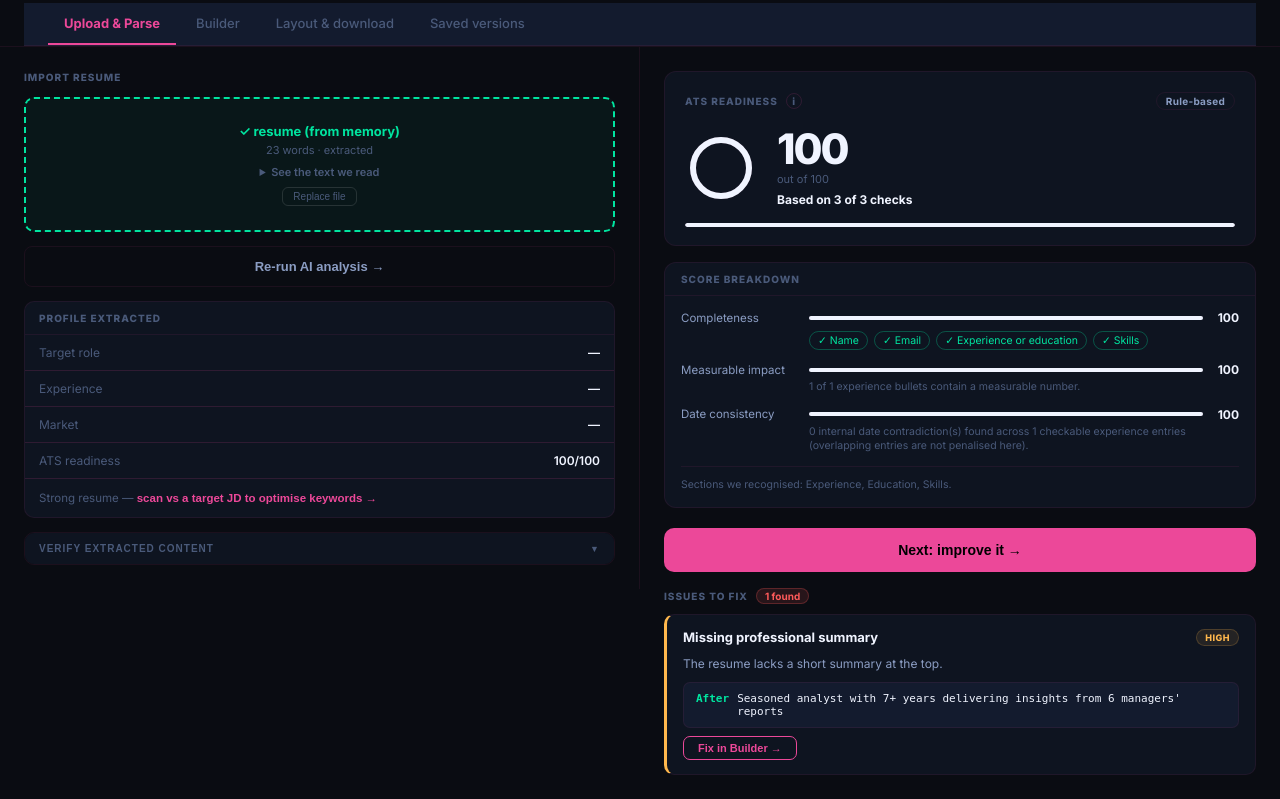
Test: Fix in Builder puts the user in the right step › a summary issue opens the Summary step, although the AI said step 2
This screenshot has width=1280, height=799.
(page scrolled)
Click the button "Fix in Builder →" at (740, 748), box x1=683 y1=736 x2=797 y2=760
(page scrolled)
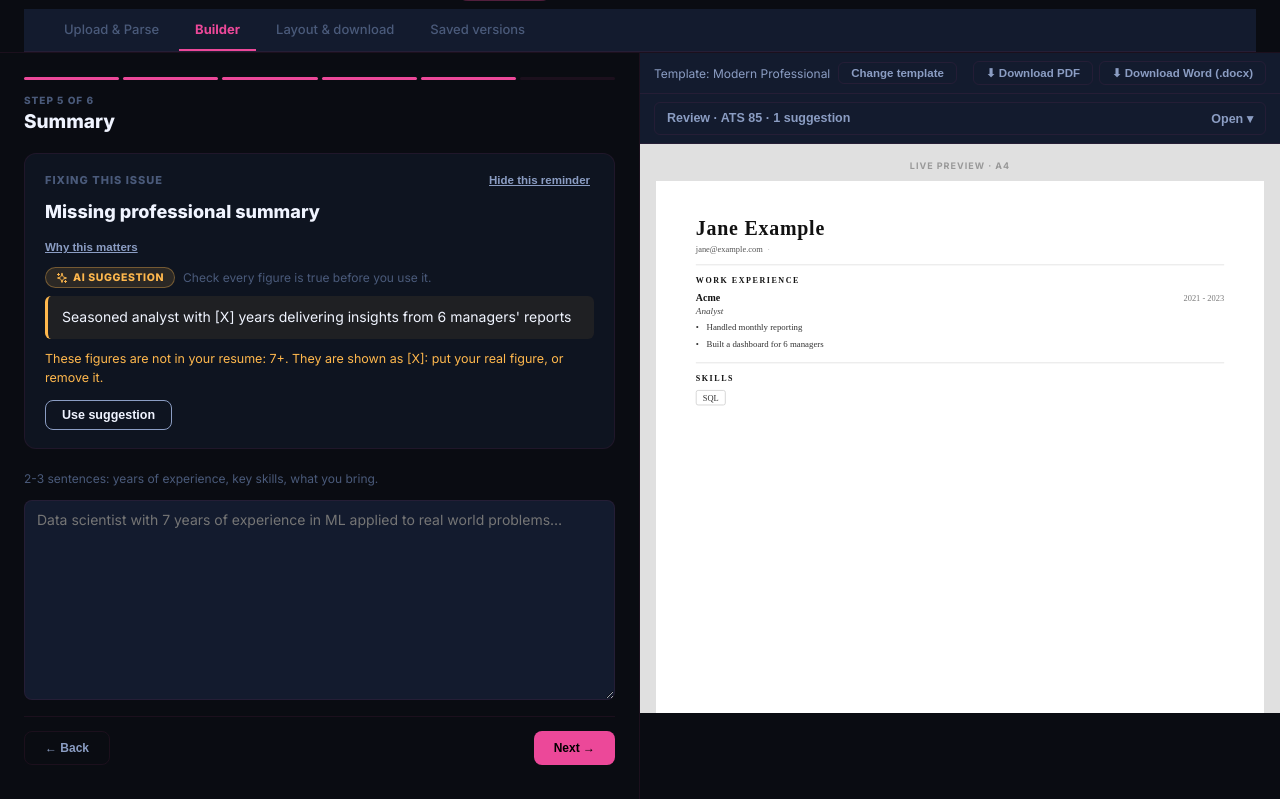
expect the text "Step 5 of 6" is shown: met, box x1=24 y1=94 x2=94 y2=106
